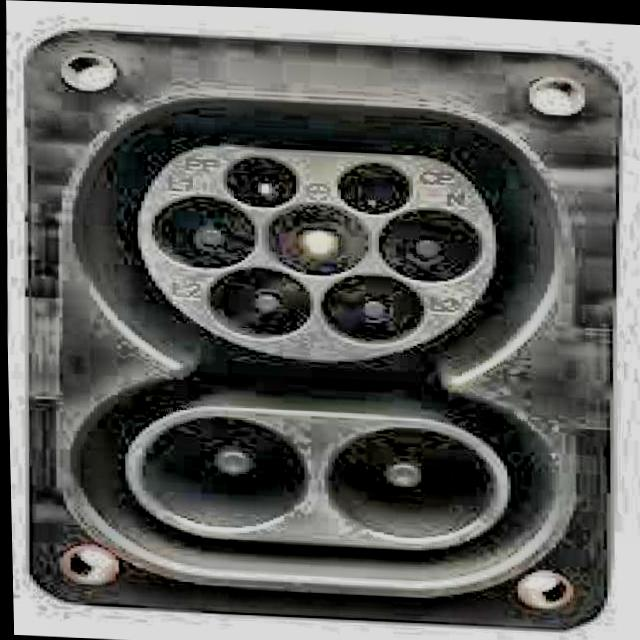inlet: (137, 144, 493, 358)
inlet-above-left: (221, 154, 298, 206)
inlet-above-right: (336, 160, 411, 213)
inlet-below-left: (203, 265, 309, 336)
inlet-below-right: (318, 271, 421, 342)
inlet-center: (262, 200, 369, 274)
inlet-center-left: (149, 194, 256, 268)
inlet-center-right: (377, 205, 480, 279)
